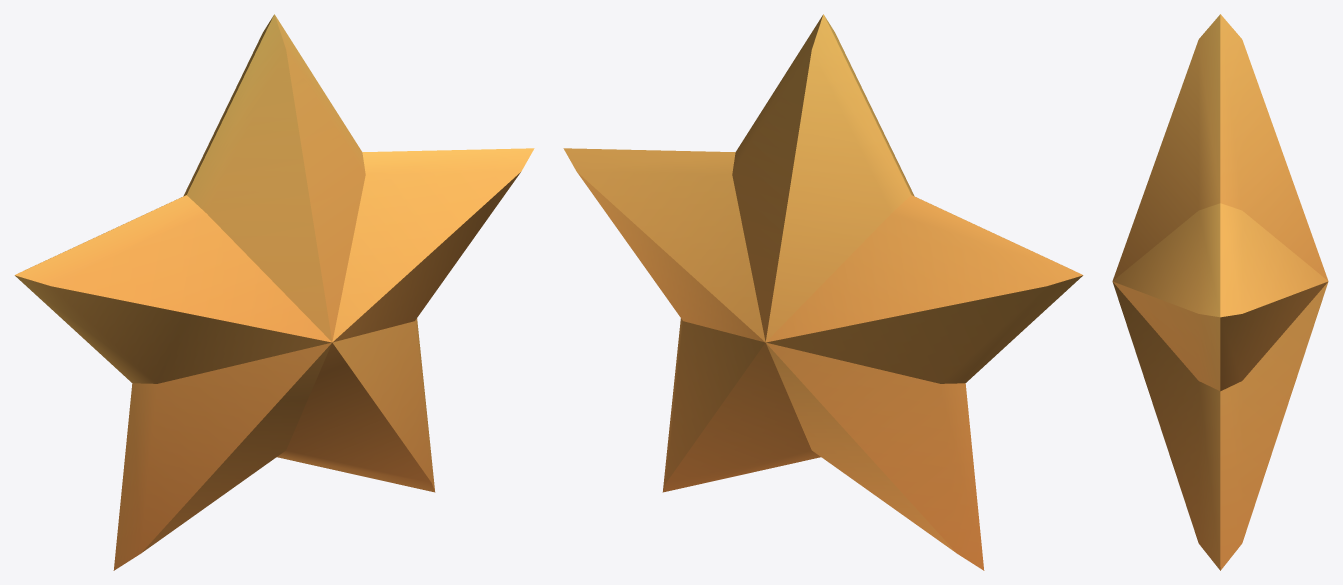
Rendered from etoile-or.glb.
3 views of the same model, side by side, from view 1: azimuth 30°, elevation 25°; view 2: azimuth 150°, elevation 25°; view 3: azimuth 270°, elevation 25° (orthographic). The views are drawn at different scales.
Visible parts, largest first — view 1: star_yellow; view 2: star_yellow; view 3: star_yellow.
Boxes of the visible parts, bbox=[...] form: star_yellow: bbox=[14, 14, 534, 570]; star_yellow: bbox=[563, 14, 1083, 570]; star_yellow: bbox=[1112, 14, 1328, 570].
Bounding box in the file's own units: 1.17 × 1.11 × 0.4489.
1 material, 1 textured.
